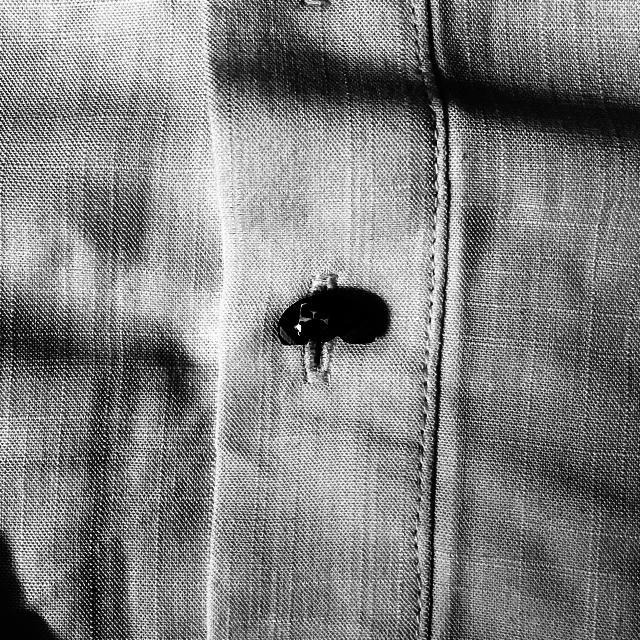Broken_button: (263, 275, 386, 380)
